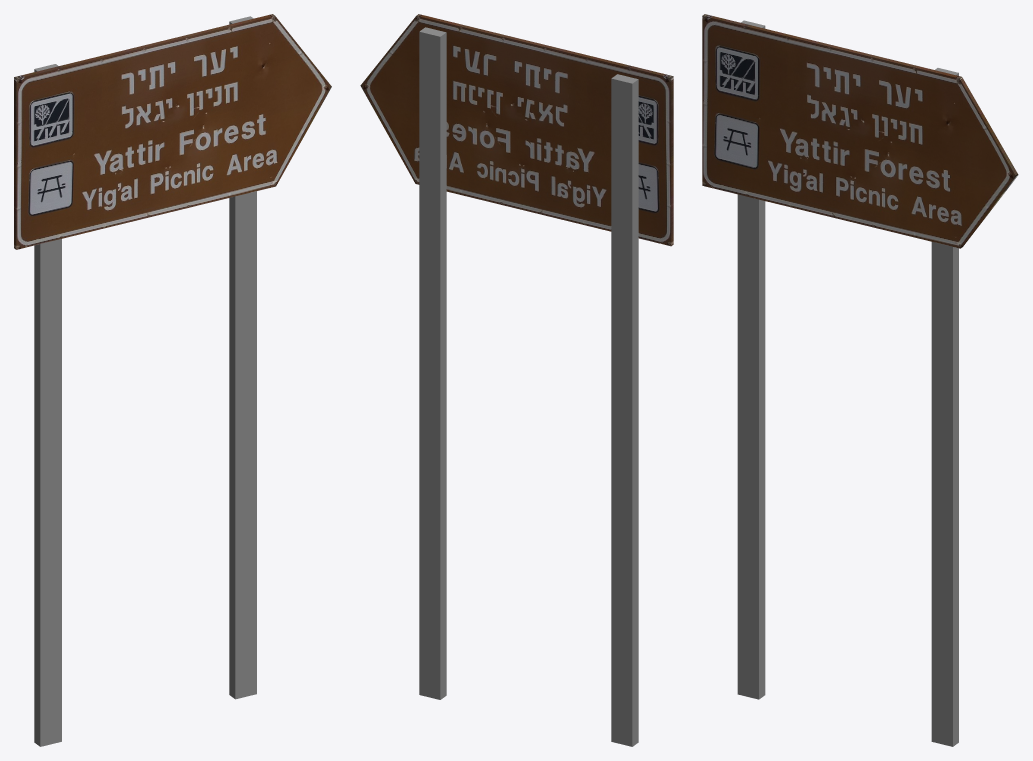
File: cartel picnic.FBX
3 renders of one model, left to right at view 1: azimuth 30°, elevation 25°; view 2: azimuth 150°, elevation 25°; view 3: azimuth 330°, elevation 25°, orthographic.
Visible parts, largest first — view 1: Box001, Box003, Box002; view 2: Box001, Box003, Box002; view 3: Box001, Box002, Box003.
Boxes of the visible parts, box(x1,y1,x2,y2) form: Box001: box(14, 14, 331, 249); Box003: box(229, 16, 256, 699); Box002: box(34, 64, 61, 746); Box001: box(360, 14, 673, 246); Box003: box(419, 27, 446, 699); Box002: box(611, 74, 638, 746); Box001: box(702, 14, 1018, 248); Box002: box(737, 20, 765, 699); Box003: box(931, 68, 958, 746).
Bounding box in the file's own units: 0.5885 × 1.21 × 0.0386.
